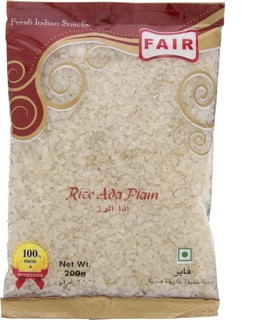plain rice: (68, 121, 172, 180)
